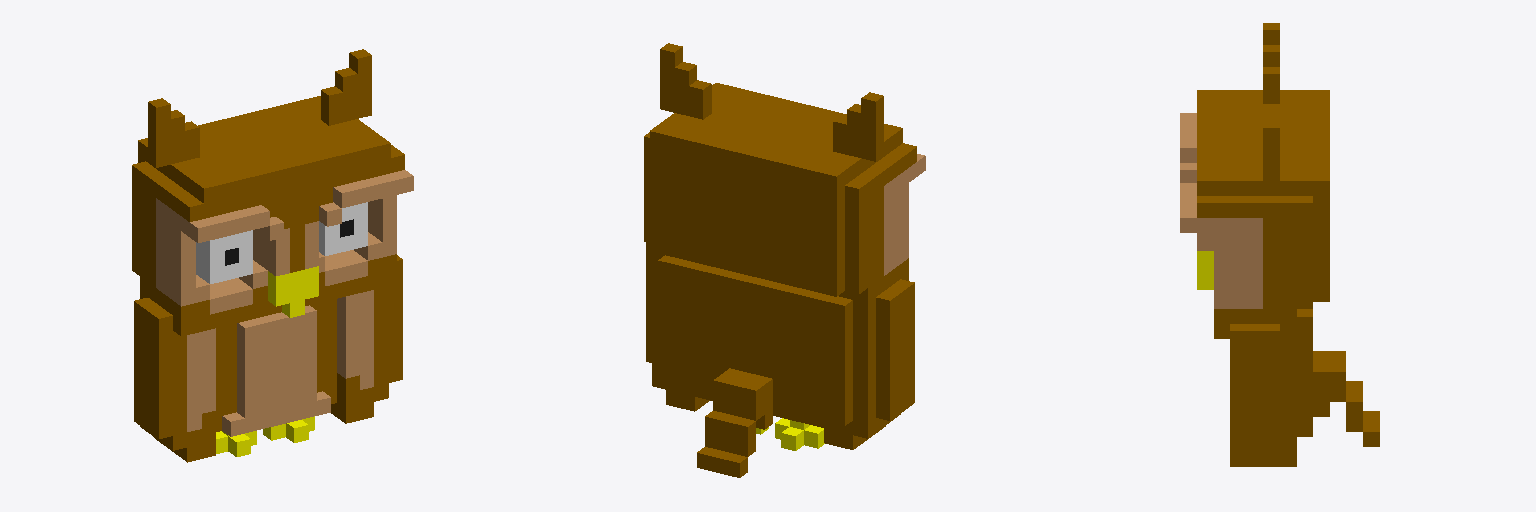
3 renders of one model, left to right at view 1: azimuth 30°, elevation 25°; view 2: azimuth 150°, elevation 25°; view 3: azimuth 270°, elevation 25°, orthographic.
Parts seen in each view (by area): view 1: object 1; view 2: object 1; view 3: object 1.
Boxes of the visible parts, x1,y1,x2,y2 form: object 1: [132, 49, 413, 462]; object 1: [644, 43, 925, 477]; object 1: [1180, 23, 1379, 466].
Bounding box in the file's own units: 1.7 × 2.4 × 1.2.
Materials: 1 (1 with a texture image).